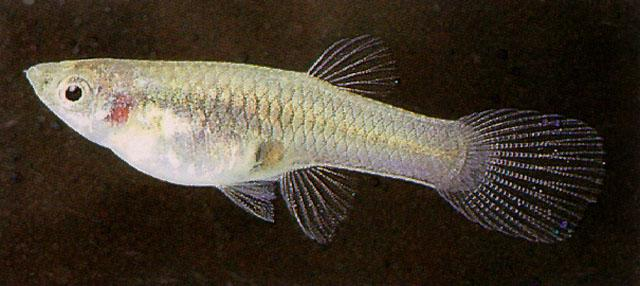Mulut: (10, 38, 62, 118)
Sirip Anal: (276, 157, 372, 256)
Sirip Ekor: (431, 95, 625, 261)
Sirip Perut: (209, 174, 285, 240)
Sirip Punggung: (294, 23, 416, 126)
